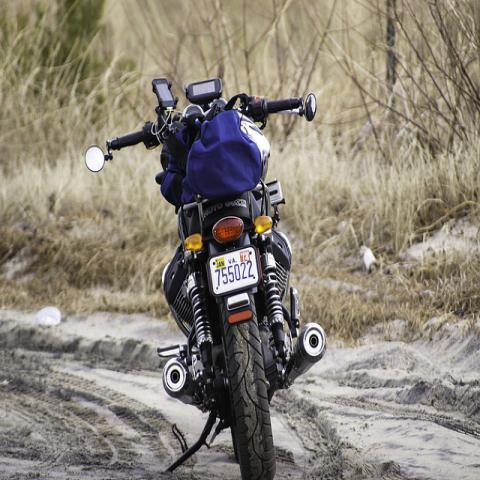motorcycle: (85, 78, 326, 479)
